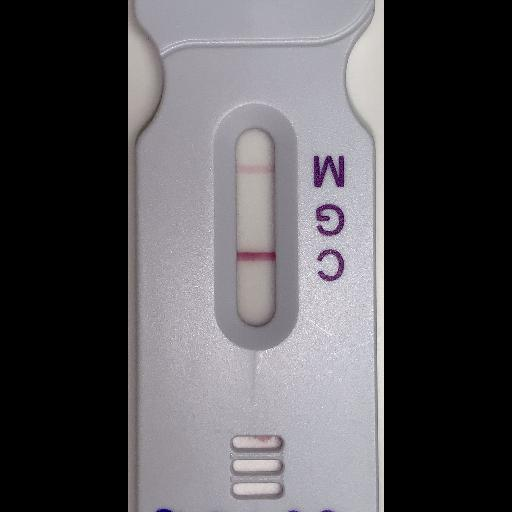Pos: (128, 0, 379, 511)
